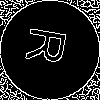R: (25, 25, 77, 68)
